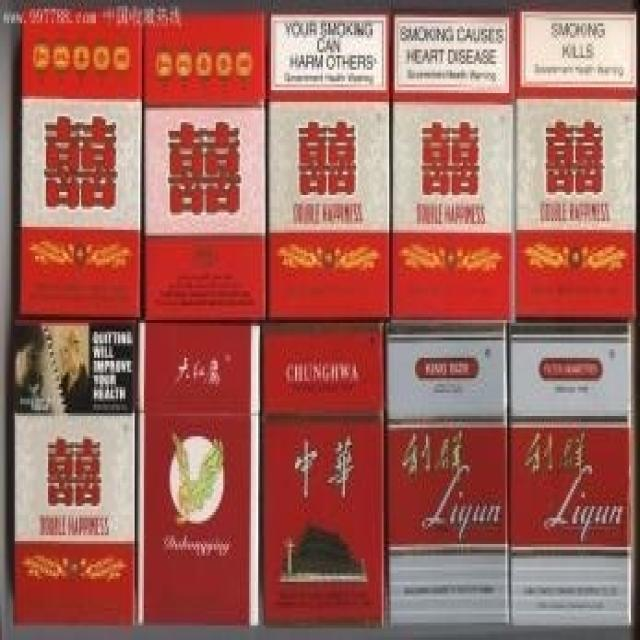box: (511, 0, 638, 323), (391, 0, 516, 326), (17, 0, 144, 320), (142, 0, 267, 323), (266, 0, 391, 323), (507, 320, 638, 628), (135, 320, 262, 625), (385, 320, 509, 631), (262, 320, 385, 631), (15, 317, 138, 625)
